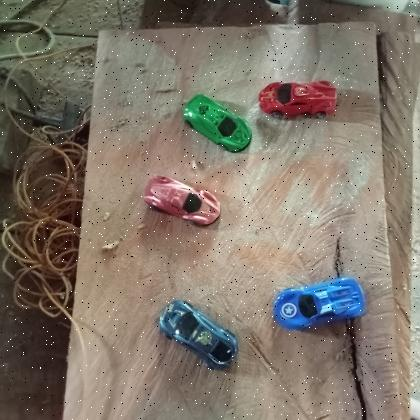Car: (155, 298, 240, 370), (272, 278, 366, 330), (142, 171, 222, 227), (182, 92, 254, 154), (258, 78, 340, 120)
